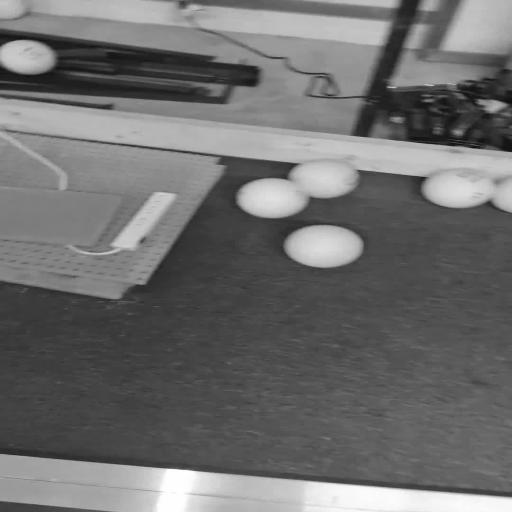fuel: (284, 225, 364, 268), (421, 169, 496, 208), (236, 178, 309, 218), (288, 159, 360, 199), (0, 40, 57, 75), (492, 178, 511, 213)
